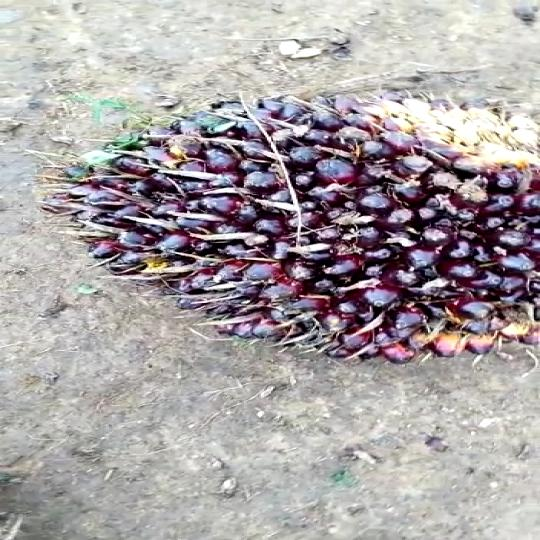mentah: (57, 94, 540, 366)
